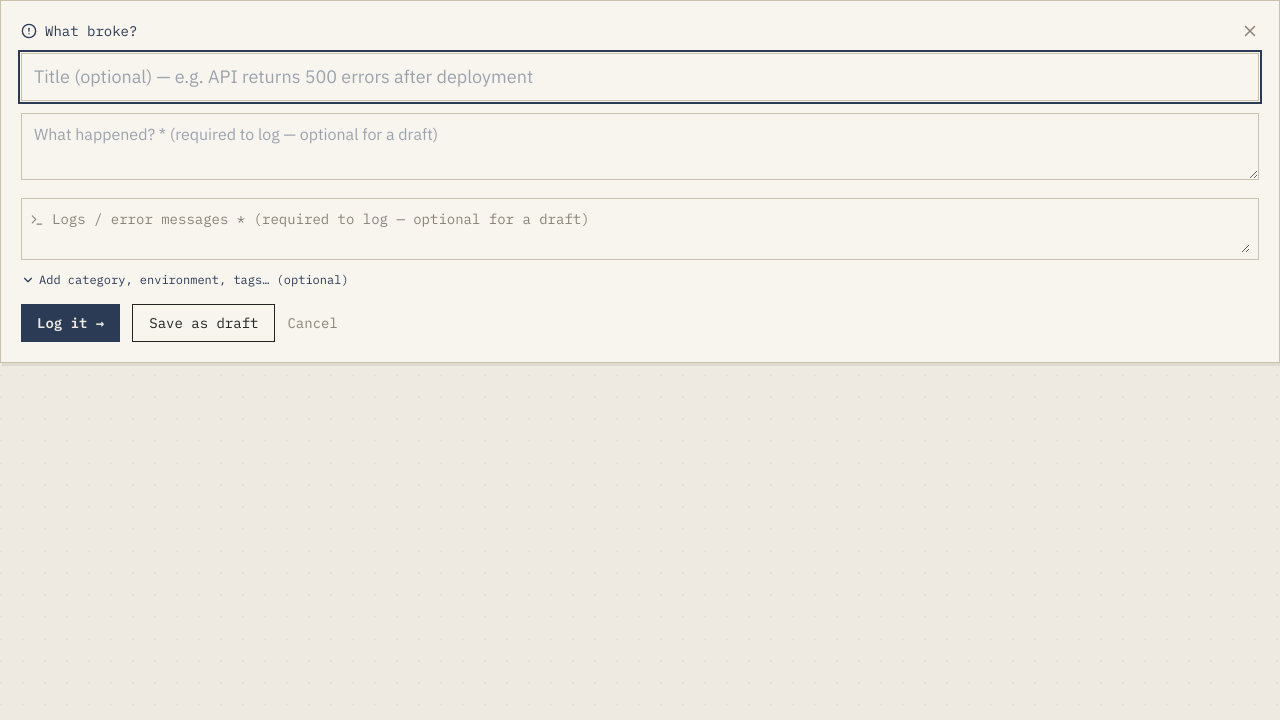
new entry form › shows an API error when publishing fails
The image size is (1280, 720).
Type "fake incident" into the text box named "Entry description".
click(640, 146); type("fake incident")  # box [21,113,1259,180]
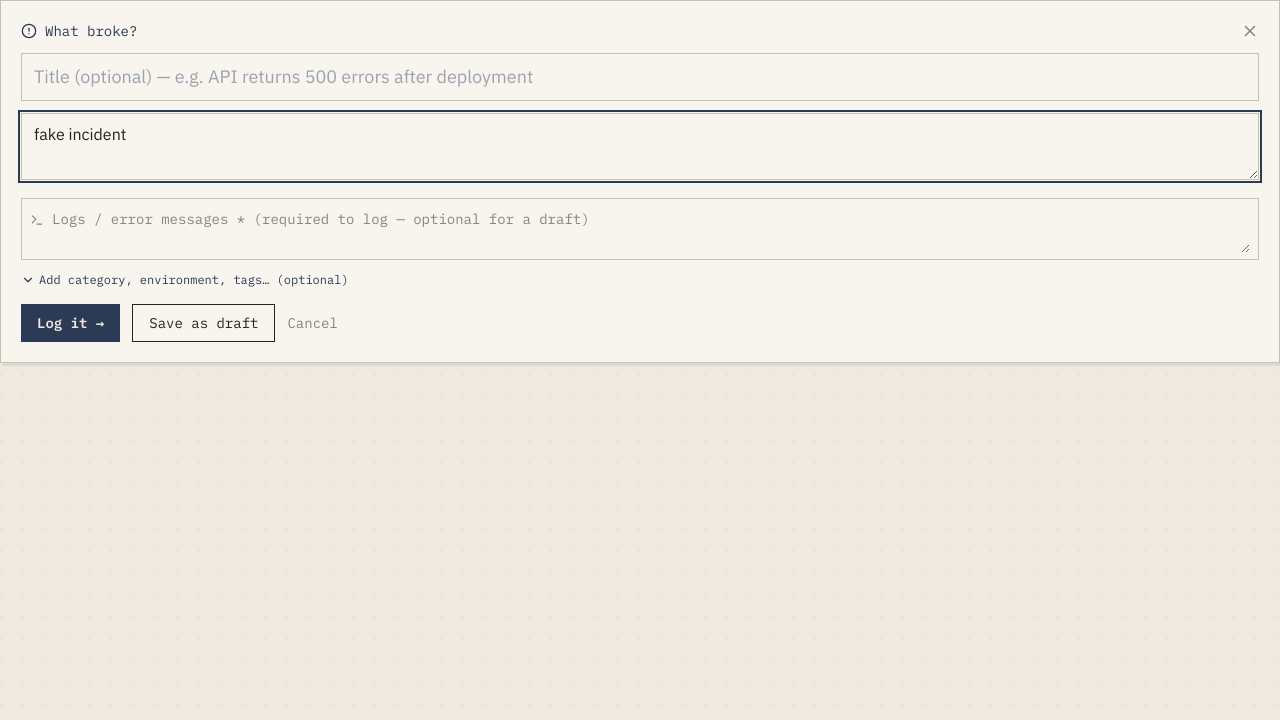
Type "fake log" into the text box named "Entry logs".
click(651, 229); type("fake log")  # box [52,205,1250,253]
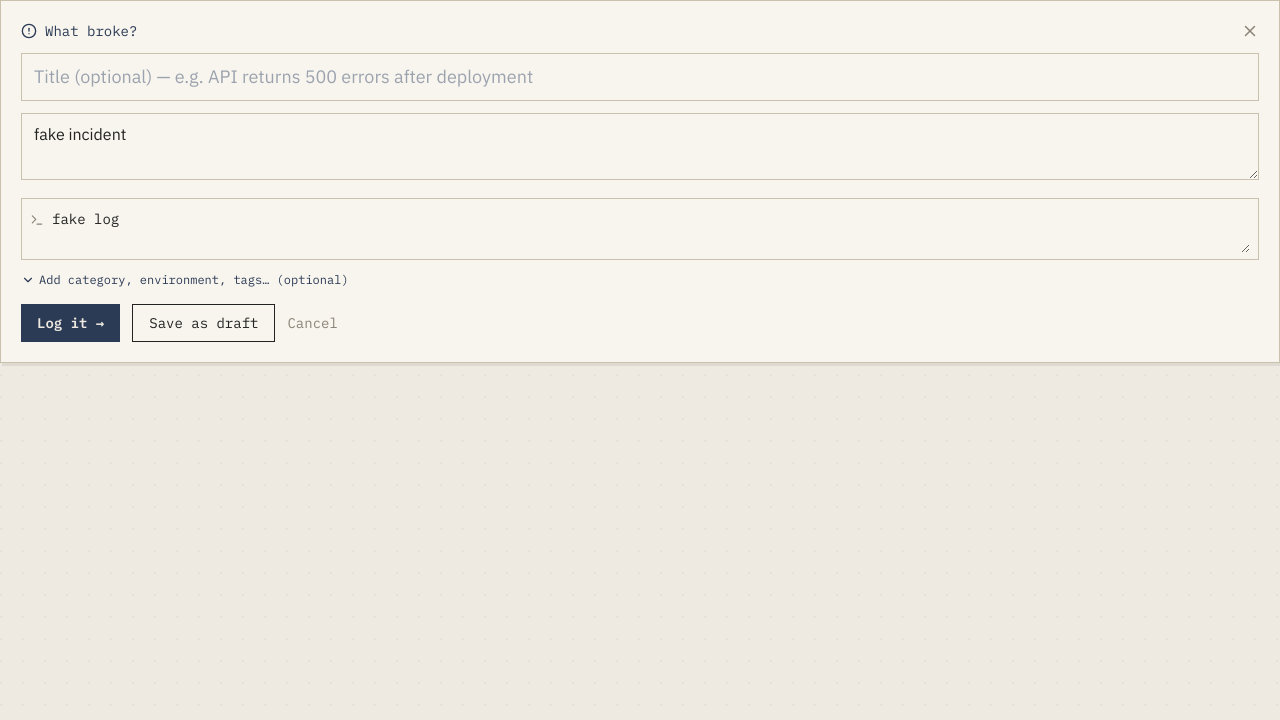
Click the button "Log it →".
click(71, 323)  # box [21,304,120,342]
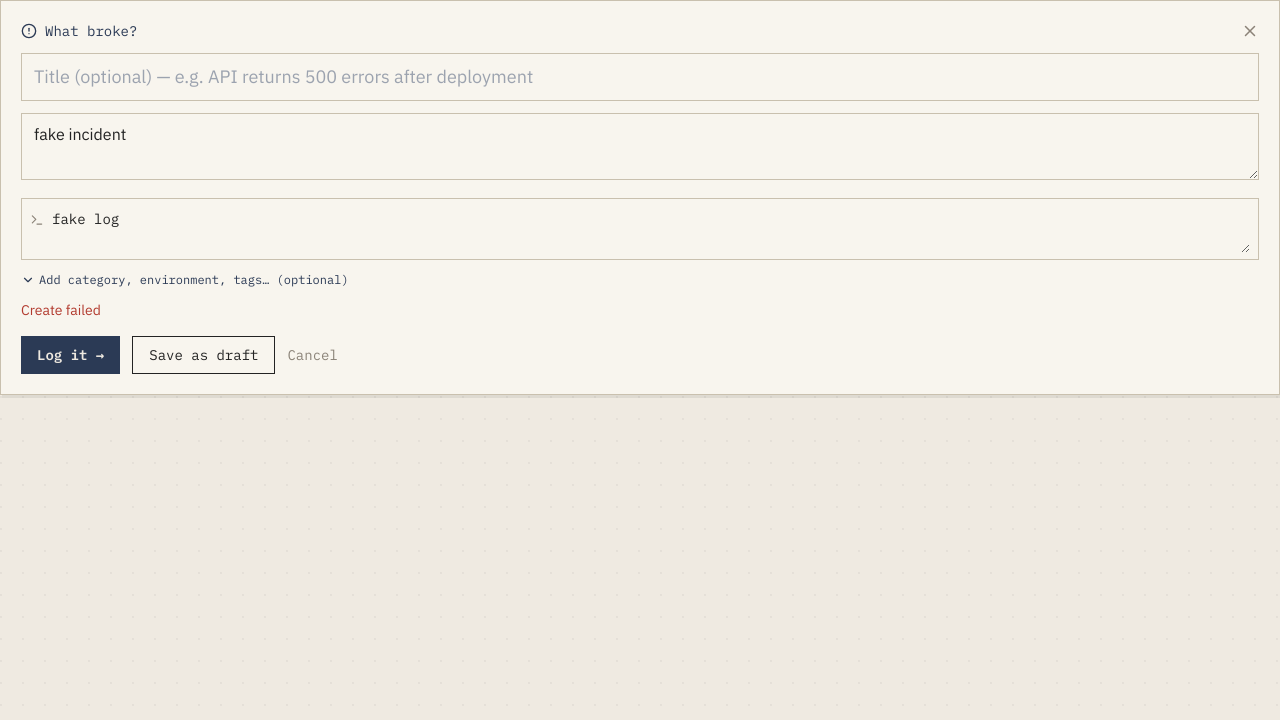
Expected: the button "Log it →" is enabled, [21,336,120,374]
Expected: the text "Create failed" is shown, [21,301,101,319]
